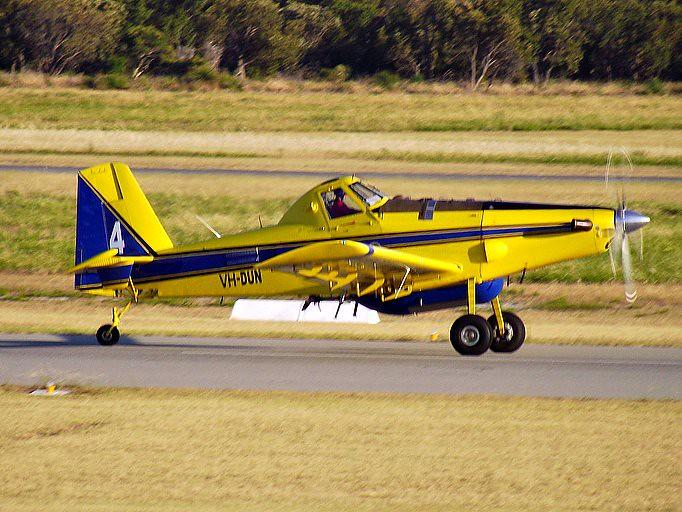plane: (68, 161, 651, 356)
